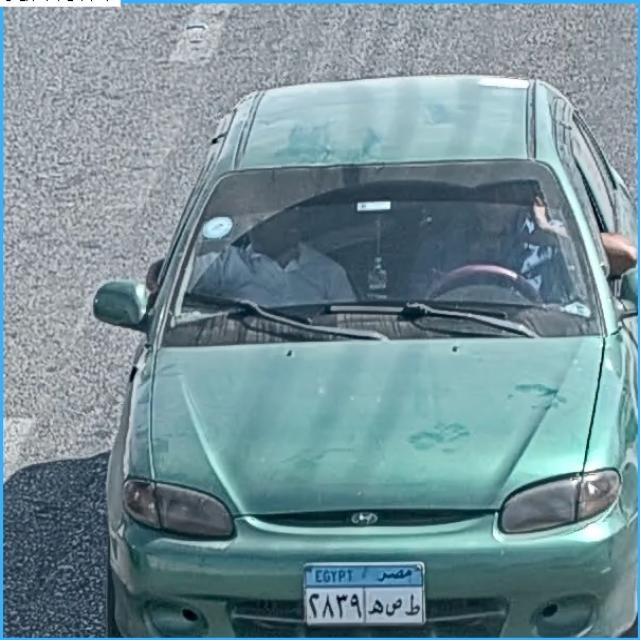windshield: (160, 168, 598, 338)
